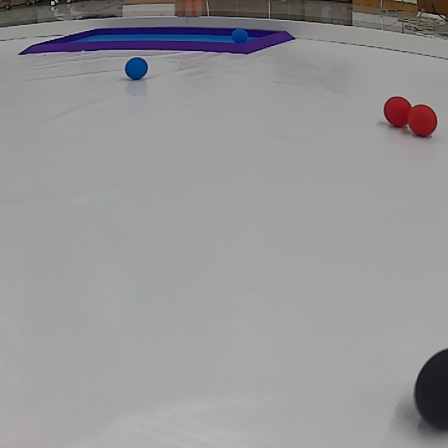black: (412, 348, 448, 431)
blue: (124, 55, 148, 80), (231, 27, 249, 44)
blue_aim: (18, 23, 295, 59)
red: (410, 103, 436, 139), (383, 96, 410, 127)
